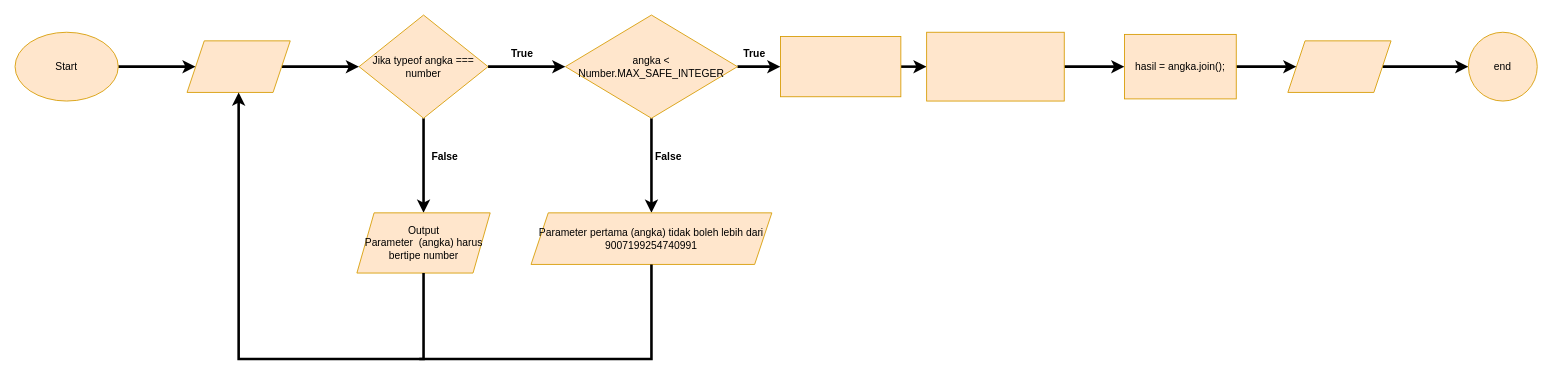
This 1552x382 diagram has some shape labels left out. Each missing label, with the centre of its shape:
const hasil = angka.toString().split(0): (840,66)
hasil = angka .map((item) => item.split("").sort().join(""));: (995,66)
Input angka: (238,66)
Output hasil: (1339,66)
